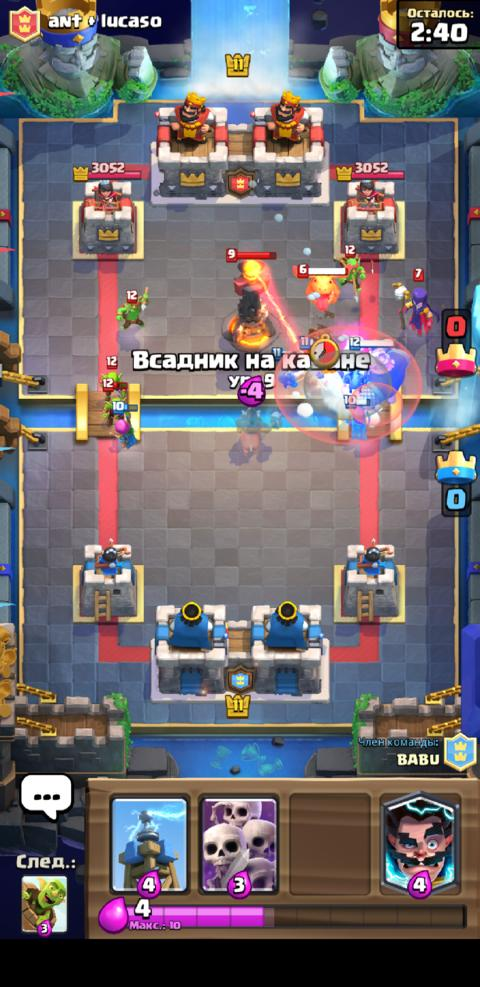ally_archer: (110, 399, 140, 449), (342, 393, 371, 441)
ally_minion: (342, 367, 367, 393), (276, 369, 298, 390)
ally_royale_giant: (340, 335, 409, 410)
enemy_baby_dragon: (290, 263, 348, 312)
enemy_goblin: (101, 378, 127, 423), (98, 354, 123, 383)
enemy_inferno_tower: (220, 247, 280, 351)
enemy_spear_goblin: (332, 243, 366, 292), (115, 286, 149, 332)
enemy_witch: (389, 266, 440, 336)
